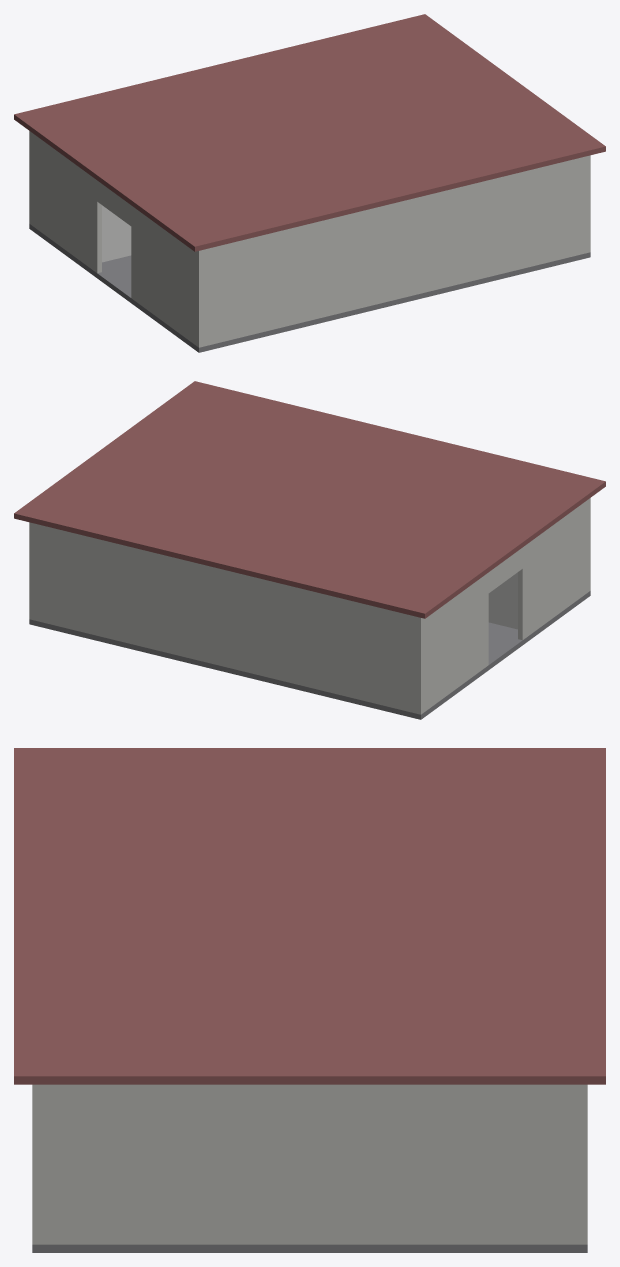
File: complex_furnished_house.glb
3 views of the same model, one above another, from view 1: azimuth 30°, elevation 25°; view 2: azimuth 150°, elevation 25°; view 3: azimuth 270°, elevation 25° (orthographic). The views are drawn at different scales.
Parts seen in each view (by area): view 1: Roof, South_Wall_Solid, West_Wall_Left, West_Wall_Right, Foundation, Hallway_Wall_North, West_Wall_Top, East_Wall_Solid; view 2: Roof, North_Wall_Solid, West_Wall_Left, West_Wall_Right, Foundation, Hallway_Wall_South, West_Wall_Top; view 3: Roof, East_Wall_Solid, Foundation, North_Wall_Solid, South_Wall_Solid.
Boxes of the visible parts, x1,y1,x2,y2 form: Roof: (14, 14, 605, 251); South_Wall_Solid: (196, 156, 590, 347); West_Wall_Left: (29, 131, 101, 273); West_Wall_Right: (131, 205, 203, 346); Foundation: (29, 224, 590, 352); Hallway_Wall_North: (102, 205, 131, 262); West_Wall_Top: (97, 181, 131, 225); East_Wall_Solid: (585, 155, 590, 253); Roof: (14, 381, 605, 618); North_Wall_Solid: (29, 522, 422, 714); West_Wall_Left: (416, 572, 488, 713); West_Wall_Right: (518, 500, 590, 640); Foundation: (29, 591, 590, 719); Hallway_Wall_South: (488, 572, 517, 629); West_Wall_Top: (488, 548, 522, 592); Roof: (14, 748, 605, 1084); East_Wall_Solid: (32, 1084, 587, 1244); Foundation: (32, 1244, 587, 1252); North_Wall_Solid: (578, 1084, 587, 1244); South_Wall_Solid: (32, 1084, 41, 1244).
Bounding box in the file's own units: 42 × 11 × 32.
